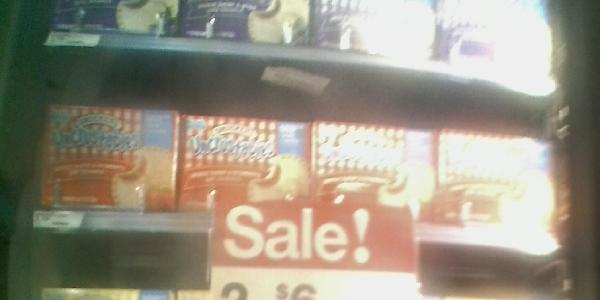icecream: (180, 90, 313, 230), (44, 92, 180, 217), (319, 106, 436, 237), (439, 124, 559, 244)
